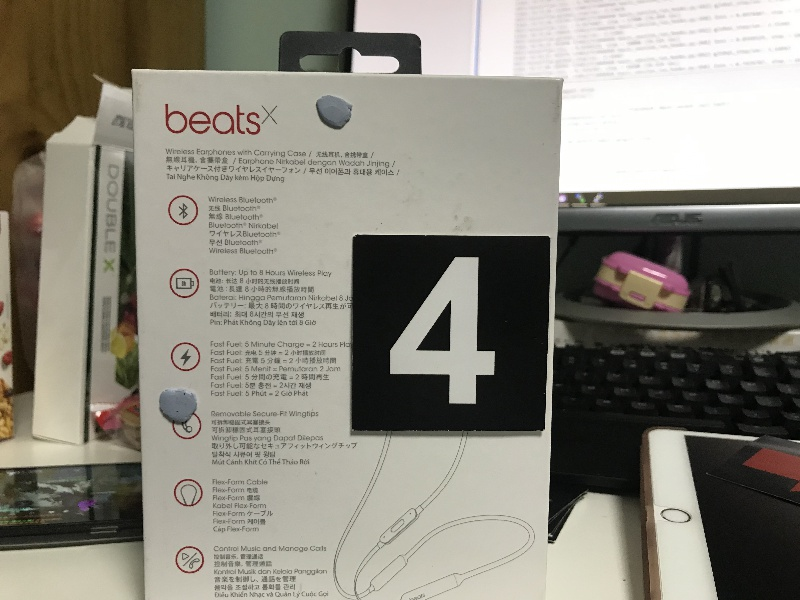Four-9: (356, 237, 545, 430)
